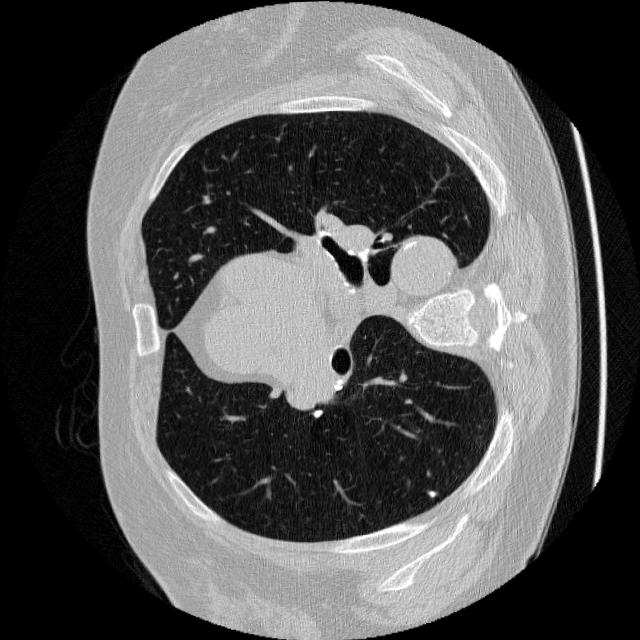nodule: (304, 402, 328, 426)
